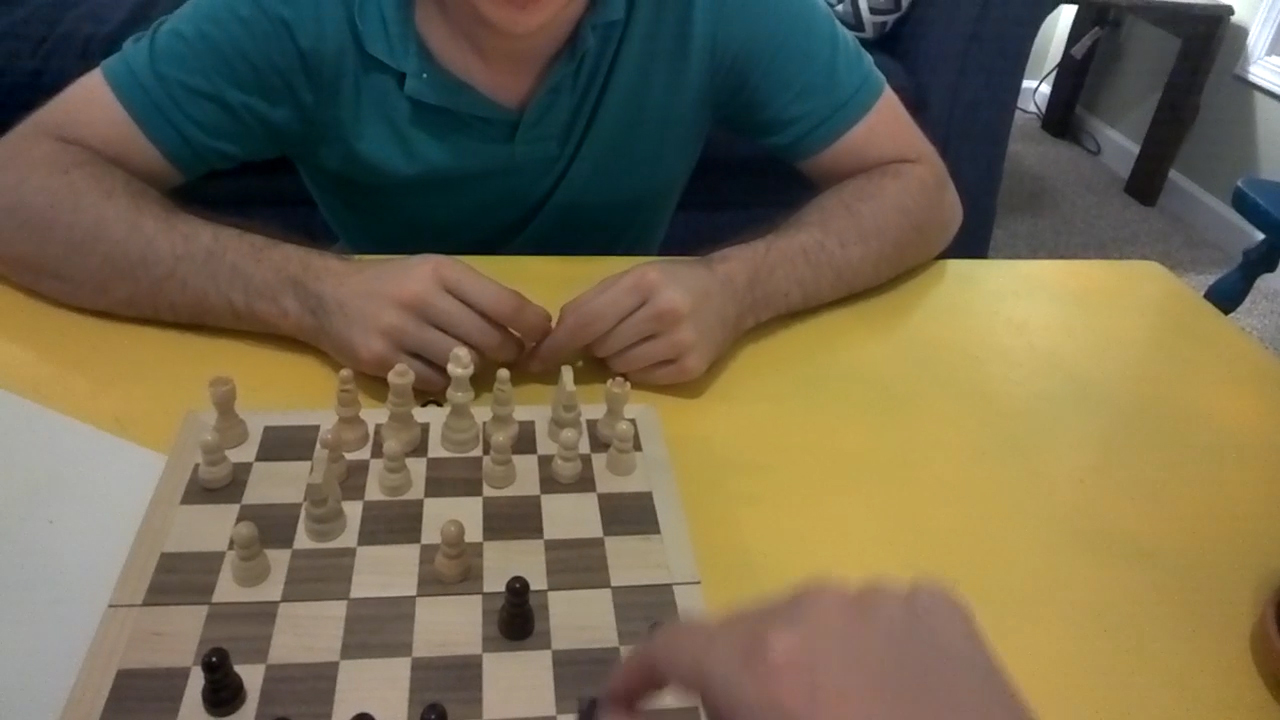hand: (604, 576, 1022, 713), (318, 255, 546, 387), (529, 263, 747, 383)
